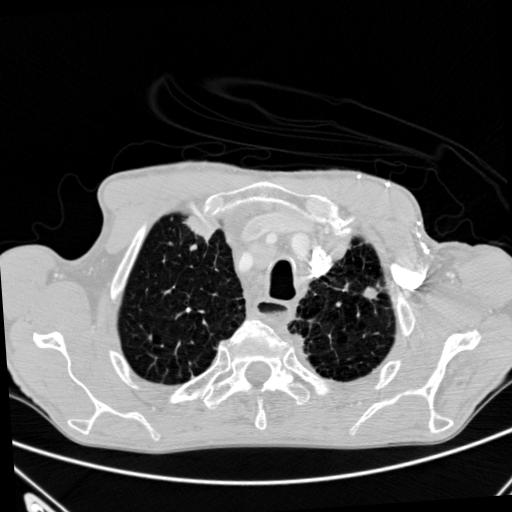nodule: (364, 284, 384, 304)
